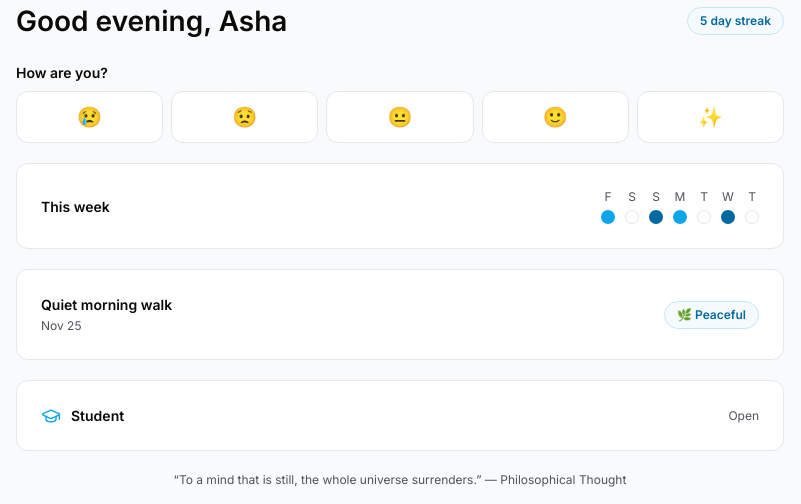
Part U5 Coverage: Home summary, quick check-in, calendar, and redirects › renders home-summary streak, last entry, and saves quick check-in on mood face tap
The width and height of the screenshot is (801, 504).
Expected: the text "5 day streak" is shown, [687,7,784,35]
Expected: the text "Quiet morning walk" is shown, [41,294,172,315]
Click the button named "moods.happy" at (555, 117), box [482,91,629,143]
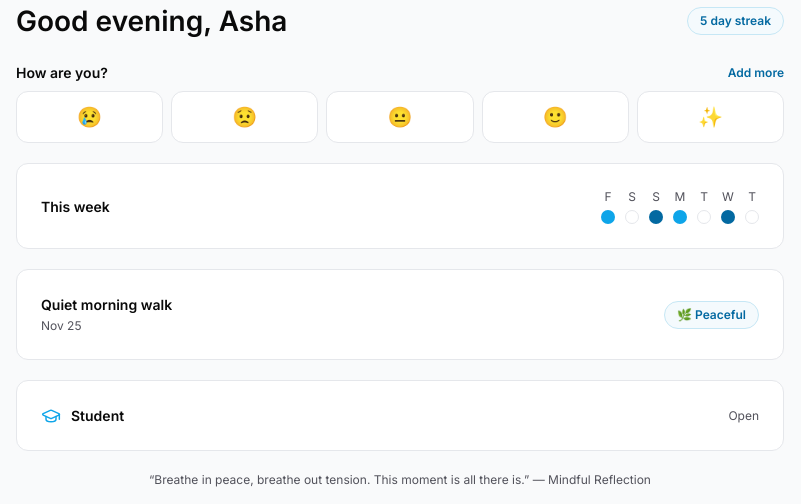
Expected: the link "Add more" is shown, [728,64,784,82]
